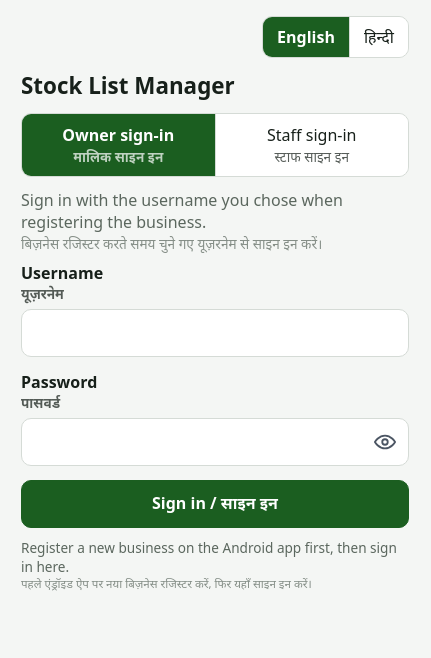
Scenario: the app › shows a wrong password in both languages and stays on the sign-in page
Type "asha" into the field labelled "Username यूज़रनेम" at (215, 333), box [21,309,409,357]
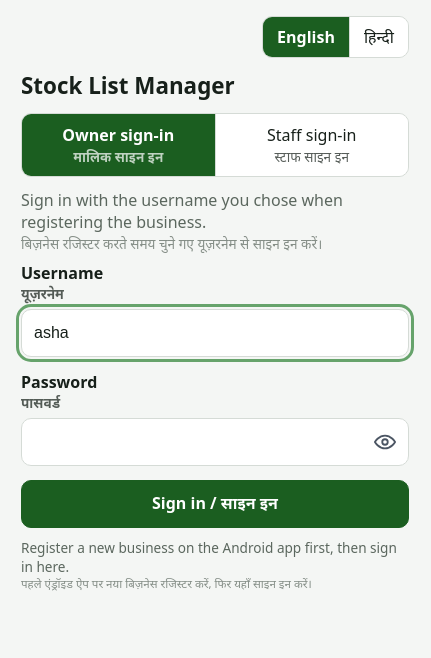
Type "nope-nope" into the password field labelled "Password पासवर्ड" at (215, 442), box [21,418,409,466]
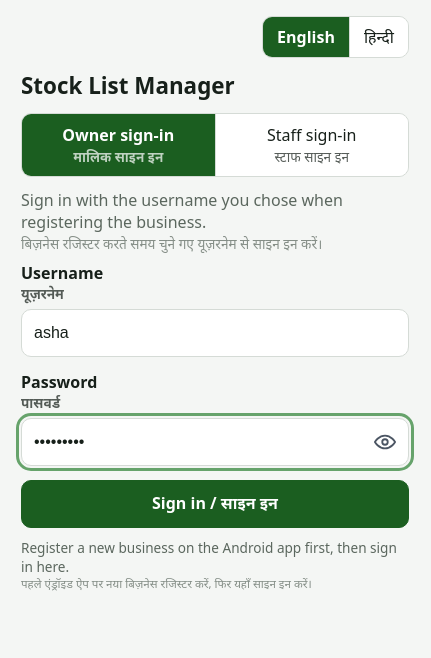
Click the button "Sign in / साइन इन" at (215, 504), box [21,480,409,528]
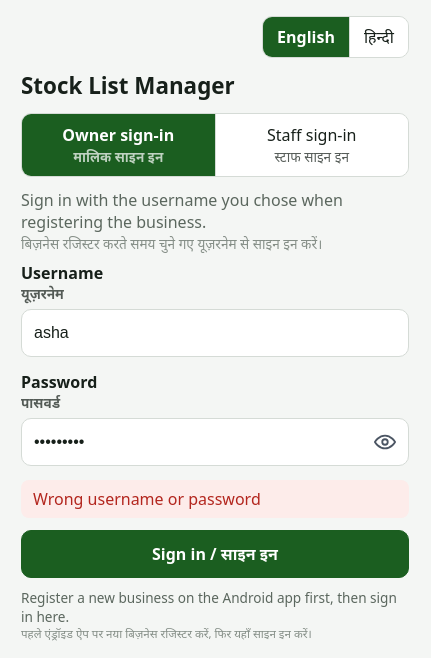
Expected: the button "Sign in / साइन इन" is shown, [21,530,409,578]
Expected: the message reads "Wrong username or password", [33,488,261,510]
